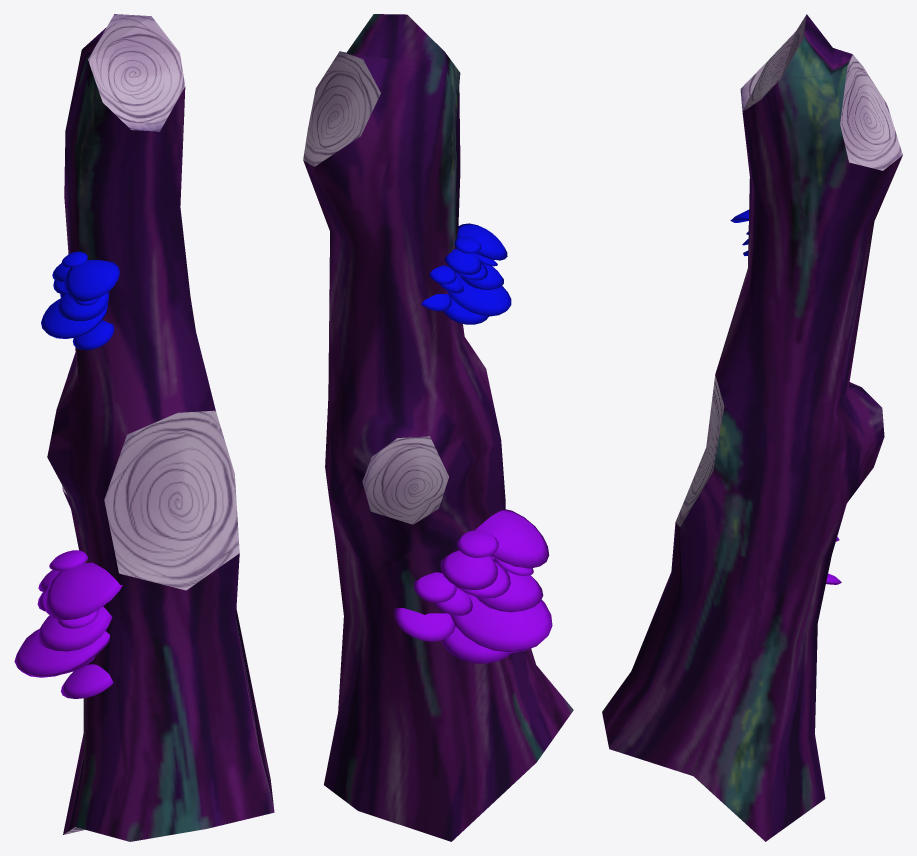
File: ShroomStump_2.fbx
The picture shows the model from 3 angles, left to right: view 1: azimuth 30°, elevation 25°; view 2: azimuth 150°, elevation 25°; view 3: azimuth 270°, elevation 25°; orthographic projection. The views are drawn at different scales.
Visible parts, largest first — view 1: Tree_1_UNWRAPPED.002, Mushrooms_Bunch_1.001, Mushrooms_Bunch_2.001; view 2: Tree_1_UNWRAPPED.002, Mushrooms_Bunch_1.001, Mushrooms_Bunch_2.001; view 3: Tree_1_UNWRAPPED.002.
Boxes of the visible parts, x1=… form: Tree_1_UNWRAPPED.002: x1=47, y1=14, x2=274, y2=841; Mushrooms_Bunch_1.001: x1=14, y1=550, x2=122, y2=698; Mushrooms_Bunch_2.001: x1=41, y1=251, x2=119, y2=350; Tree_1_UNWRAPPED.002: x1=303, y1=14, x2=573, y2=841; Mushrooms_Bunch_1.001: x1=394, y1=509, x2=552, y2=663; Mushrooms_Bunch_2.001: x1=421, y1=223, x2=511, y2=324; Tree_1_UNWRAPPED.002: x1=602, y1=14, x2=902, y2=841.
Bounding box in the file's own units: 89.49 × 316 × 111.
